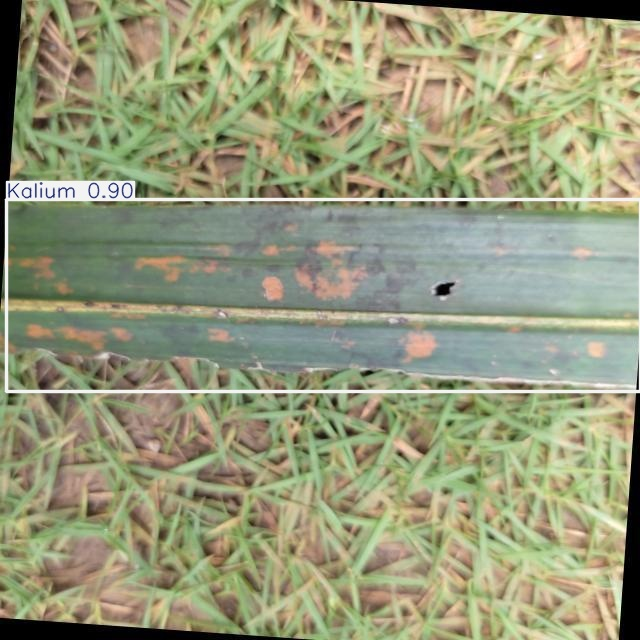Kalium: (7, 199, 640, 392)
